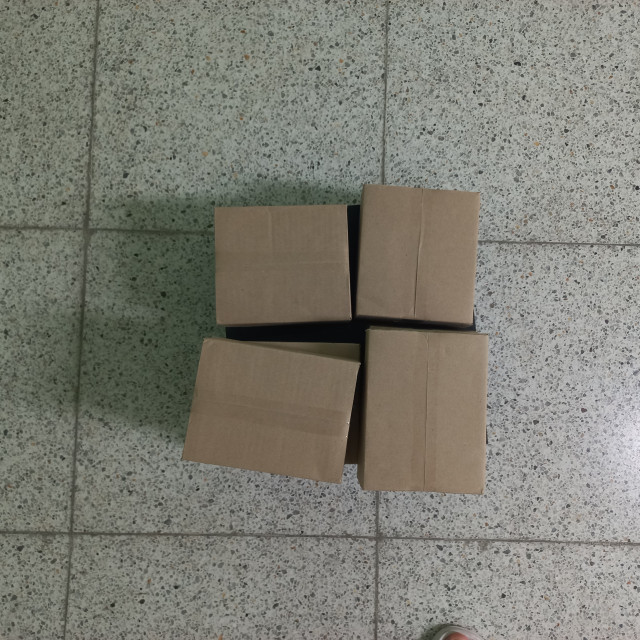box: (177, 334, 365, 488), (358, 332, 493, 496), (351, 182, 482, 326), (211, 202, 355, 330)
